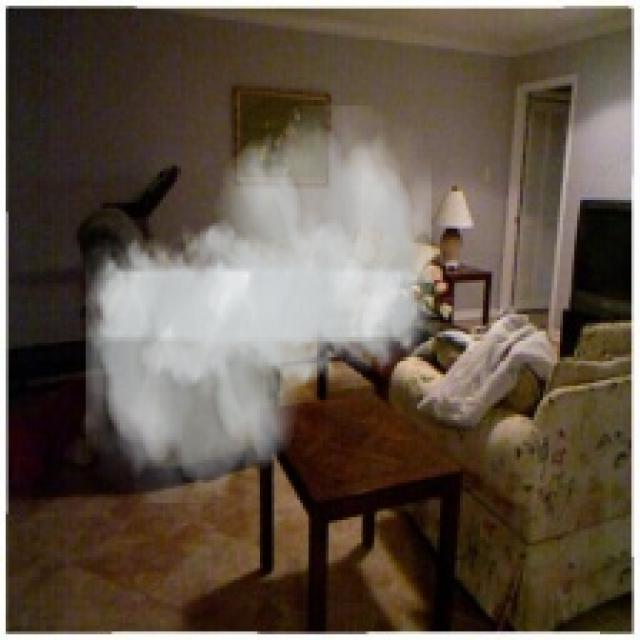Smoke: (86, 106, 432, 503)
